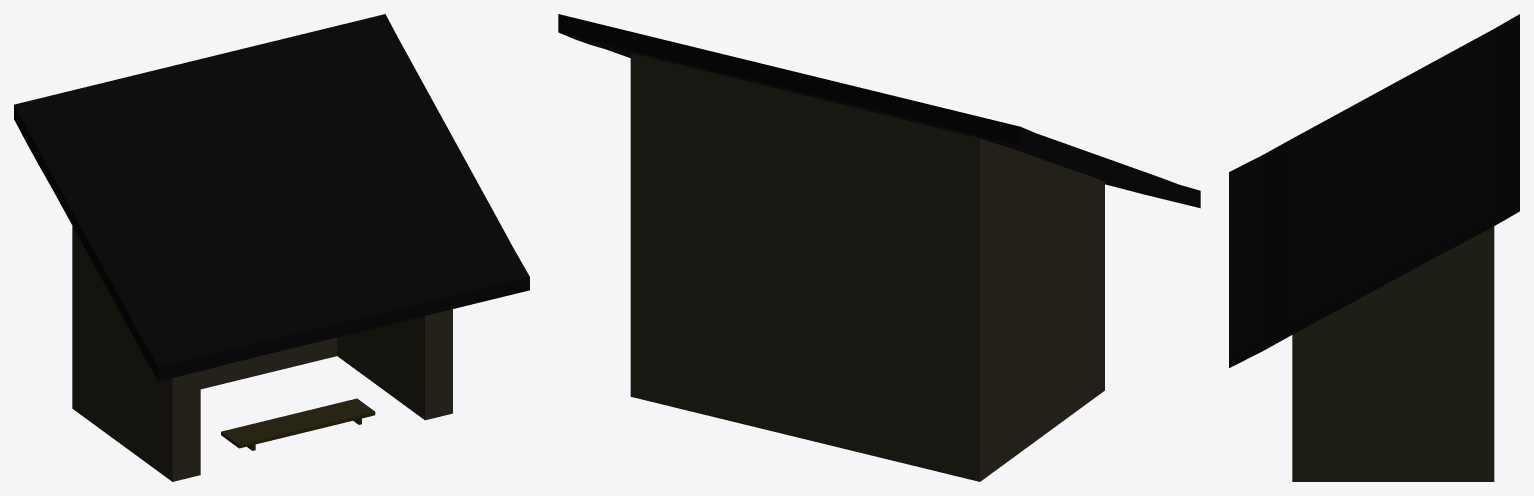
Rendered from Building_000.obj.
3 views of the same model, side by side, from view 1: azimuth 30°, elevation 25°; view 2: azimuth 150°, elevation 25°; view 3: azimuth 270°, elevation 25° (orthographic). The views are drawn at different scales.
Visible parts, largest first — view 1: pCube1, pCube4; view 2: pCube1; view 3: pCube1.
Part boxes in pixels (x1,y1,x2,y2): pCube1: (14, 14, 529, 481); pCube4: (221, 398, 375, 448); pCube1: (558, 14, 1200, 481); pCube1: (1229, 14, 1519, 481).
Bounding box in the file's own units: 38.36 × 30.36 × 25.84.
